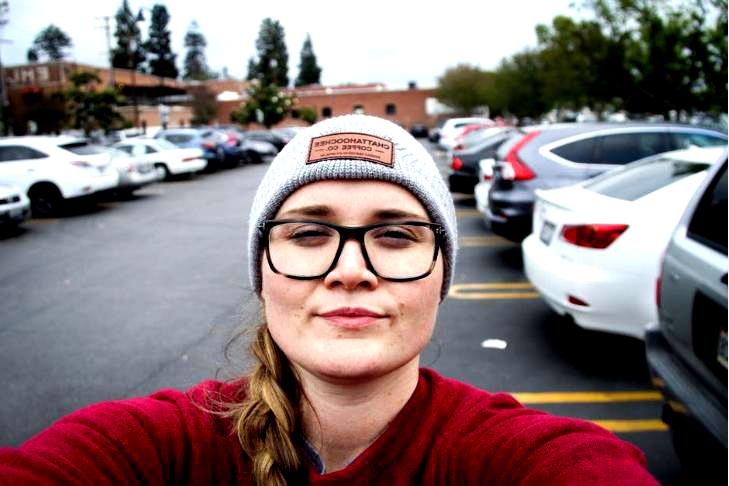face: (262, 179, 442, 381)
